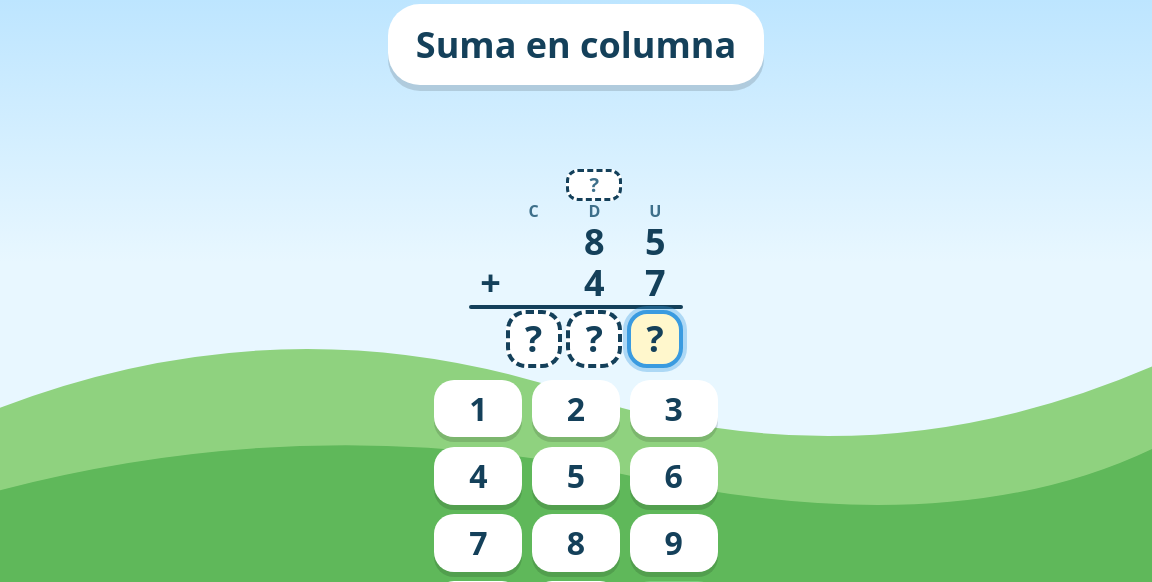
Test case: Ejercicio en columna: sumas llevando › con un resultado de 100 o más aparece el cuadro de centenas y hay que rellenar los tres
Expected: the button named "Centenas" is shown, [506,310,562,368]
Expected: the text "C" is shown, [528,203,539,221]
Click the button "2": click(576, 408) [532,380,620,437]
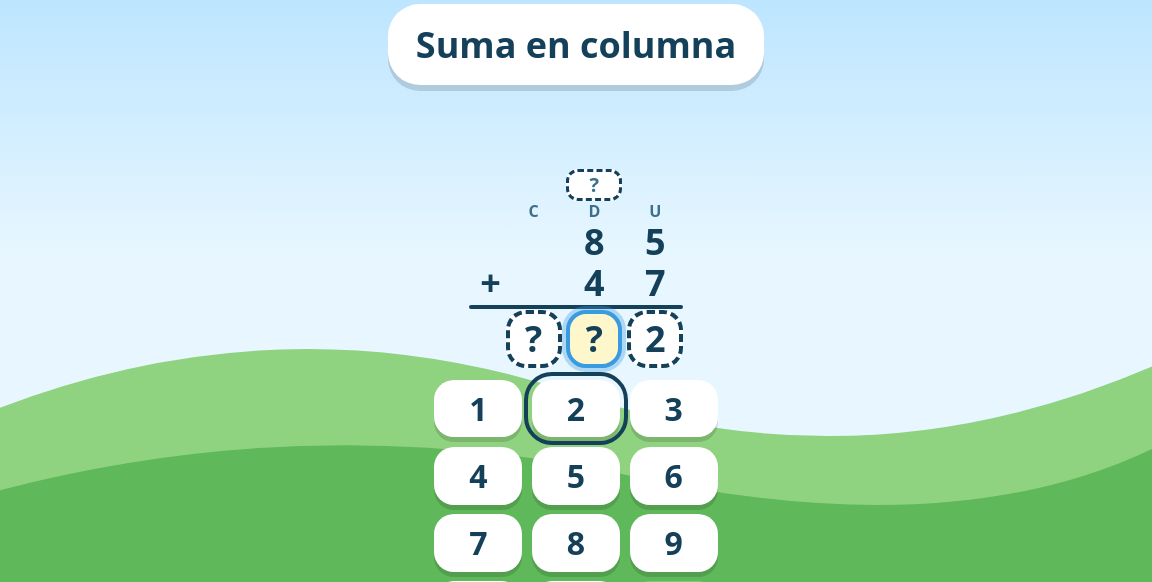
Click the button "3": click(674, 408) [630,380,718,437]
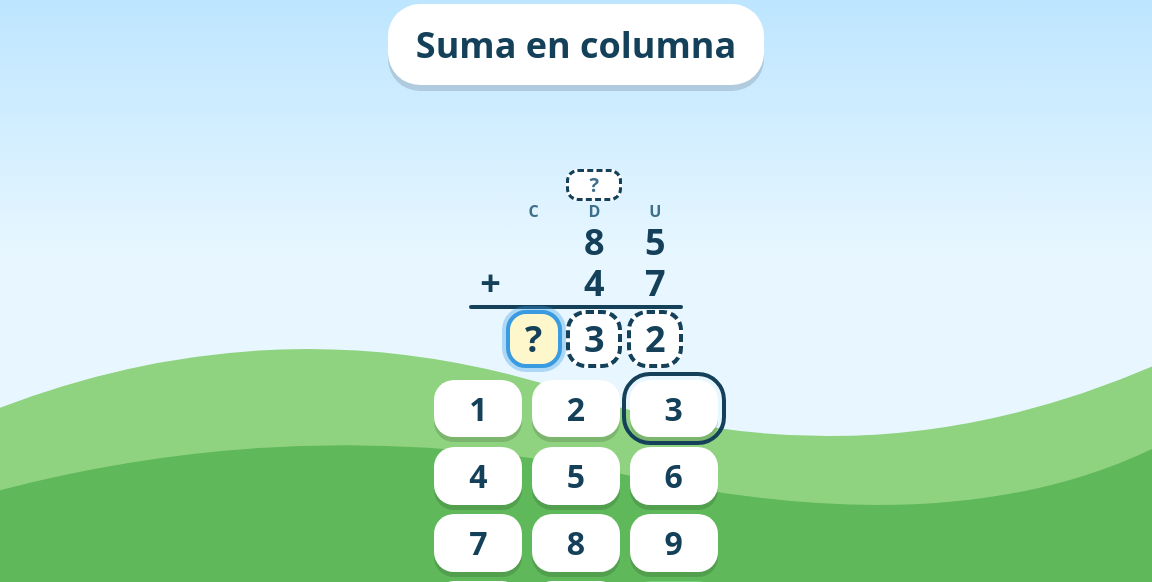
Click the button "1": click(478, 408) [434,380,522,437]
(page scrolled)
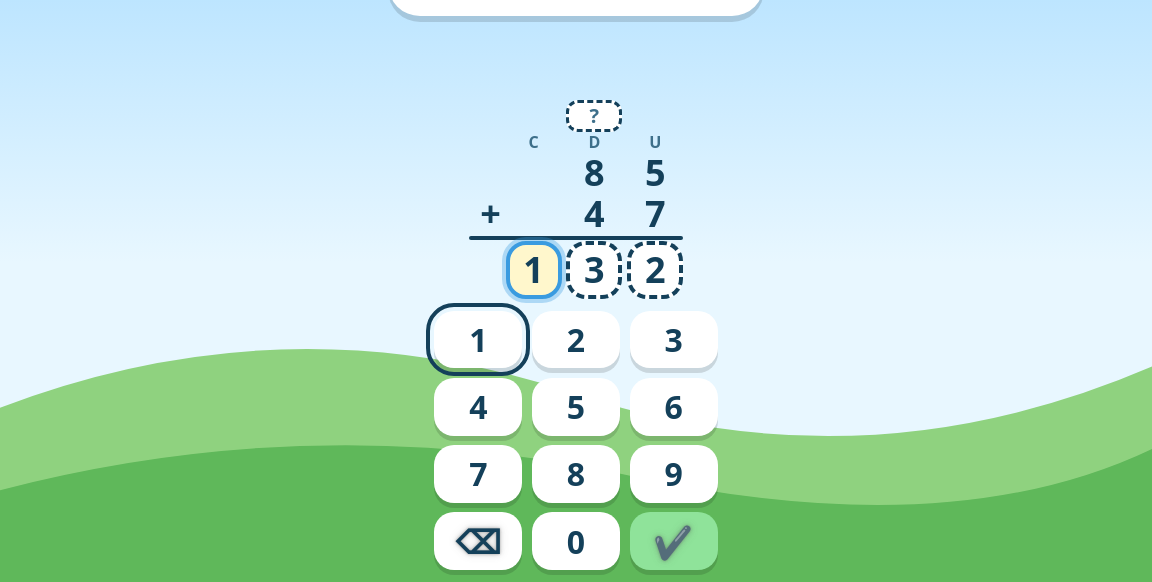
Now the button named "Comprobar" is enabled
Now the button named "Centenas" reads "1", box [506,241,562,299]
Click the button named "Comprobar": click(674, 541) [630,512,718,570]
(page scrolled)
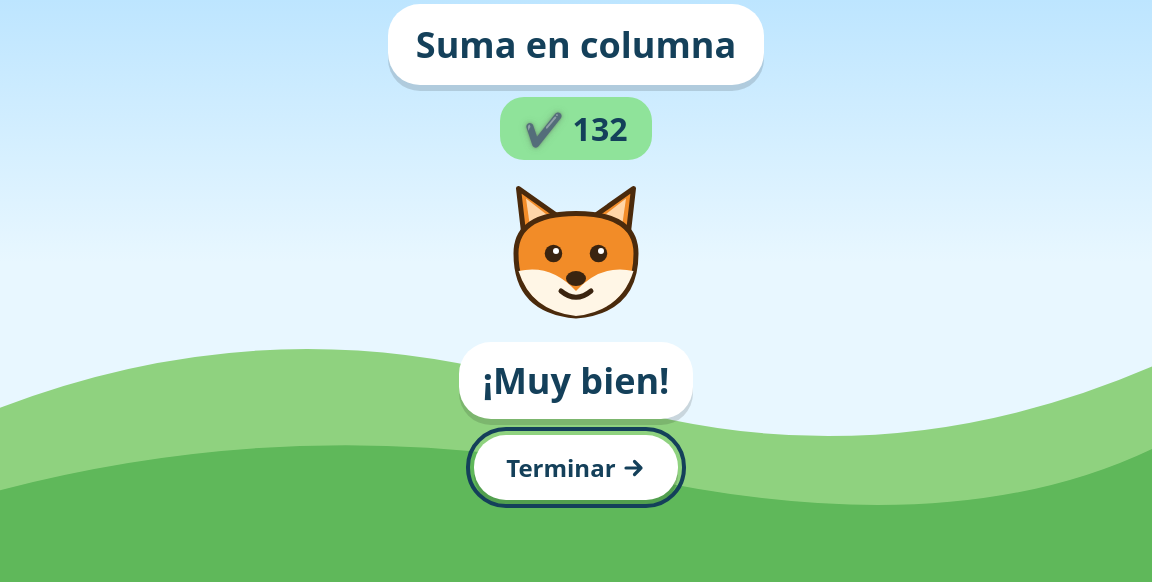
Now the text "¡Muy bien!" is shown, box [459,342,693,419]
